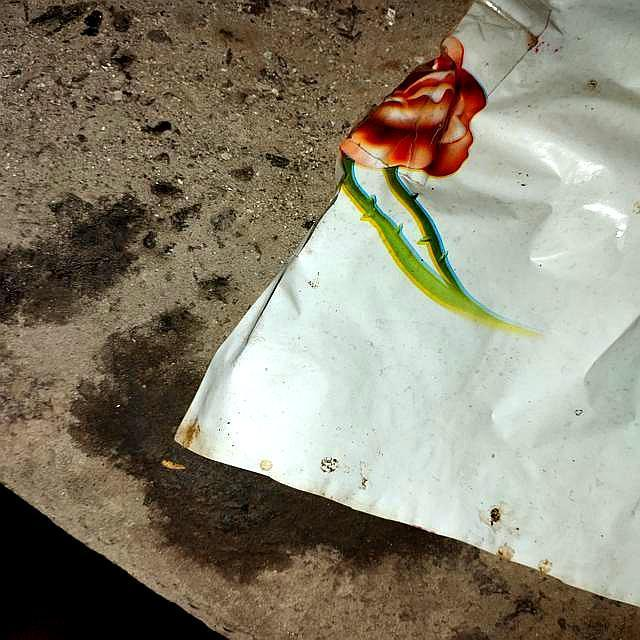Non-biodegradable: (155, 1, 640, 613)
